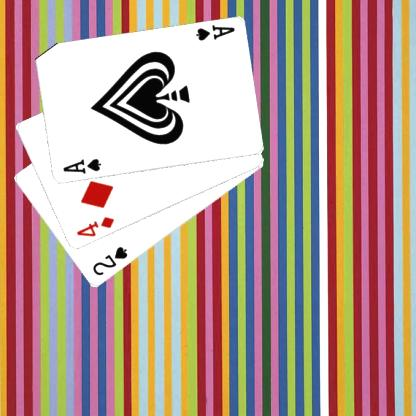2S: (89, 244, 129, 277)
4D: (74, 214, 115, 239)
AS: (59, 157, 102, 176), (193, 23, 236, 42)
